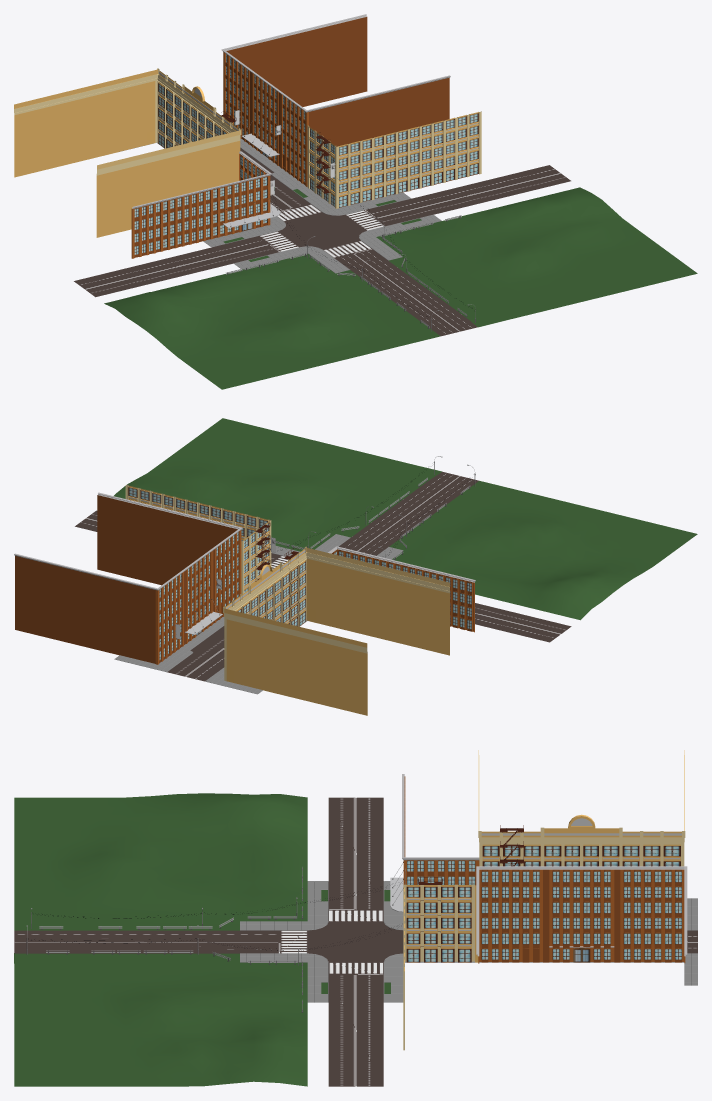
Rendered from TileCityHighway.fbx.
The picture shows the model from 3 angles, top to bottom: view 1: azimuth 30°, elevation 25°; view 2: azimuth 150°, elevation 25°; view 3: azimuth 270°, elevation 25°; orthographic projection. The views are drawn at different scales.
Parts seen in each view (by area): view 1: Plane.141, Road1.002, Sidewalk1.099, Sidewalk1.068, Sidewalk1.067, Sidewalk1.098, Sidewalk1.096, Sidewalk1.097, Sidewalk1.066, Road, Sidewalk1.080, Sidewalk1.017 (+17 smaller); view 2: Plane.141, Sidewalk1.068, Sidewalk1.099, Sidewalk1.067, Sidewalk1.098, Sidewalk1.096, Sidewalk1.066, Sidewalk1.097, Sidewalk1.017, Sidewalk1.080, Sidewalk1.011, Sidewalk1.081 (+10 smaller); view 3: Plane.141, Road1.002, Road, Sidewalk1.096, Sidewalk1.068, Sidewalk1.017, Sidewalk1.067, Road1.003, Sidewalk1.004, Sidewalk1.011, Sidewalk1.066, Sidewalk1.099 (+16 smaller).
Part boxes in pixels (left/top/right/bottom): Plane.141: left=104, top=187, right=697, bottom=389; Road1.002: left=74, top=165, right=570, bottom=297; Sidewalk1.099: left=14, top=80, right=240, bottom=187; Sidewalk1.068: left=223, top=17, right=449, bottom=124; Sidewalk1.067: left=223, top=29, right=449, bottom=137; Sidewalk1.098: left=14, top=93, right=238, bottom=200; Sidewalk1.096: left=14, top=68, right=241, bottom=175; Sidewalk1.097: left=14, top=105, right=238, bottom=212; Sidewalk1.066: left=223, top=42, right=449, bottom=149; Road: left=335, top=249, right=477, bottom=336; Sidewalk1.080: left=14, top=117, right=238, bottom=225; Sidewalk1.017: left=223, top=54, right=449, bottom=162; Plane.141: left=114, top=418, right=697, bottom=620; Sidewalk1.068: left=15, top=495, right=241, bottom=602; Sidewalk1.099: left=224, top=558, right=449, bottom=665; Sidewalk1.067: left=15, top=507, right=241, bottom=615; Sidewalk1.098: left=224, top=571, right=449, bottom=678; Sidewalk1.096: left=223, top=546, right=449, bottom=653; Sidewalk1.066: left=15, top=520, right=241, bottom=627; Sidewalk1.097: left=224, top=583, right=449, bottom=690; Sidewalk1.017: left=15, top=532, right=241, bottom=640; Sidewalk1.080: left=224, top=596, right=449, bottom=703; Sidewalk1.011: left=15, top=545, right=241, bottom=652; Sidewalk1.081: left=224, top=608, right=449, bottom=715; Plane.141: left=14, top=793, right=307, bottom=1086; Road1.002: left=328, top=797, right=383, bottom=1086; Road: left=14, top=930, right=278, bottom=953; Sidewalk1.096: left=478, top=750, right=685, bottom=844; Sidewalk1.068: left=479, top=869, right=684, bottom=885; Sidewalk1.017: left=479, top=915, right=684, bottom=931; Sidewalk1.067: left=479, top=884, right=684, bottom=900; Road1.003: left=307, top=921, right=403, bottom=962; Sidewalk1.004: left=478, top=946, right=685, bottom=963; Sidewalk1.011: left=479, top=931, right=684, bottom=946; Sidewalk1.066: left=479, top=900, right=684, bottom=915; Sidewalk1.099: left=479, top=844, right=684, bottom=860.
Size of the model in its own units: 20013 by 3445 by 20010.
